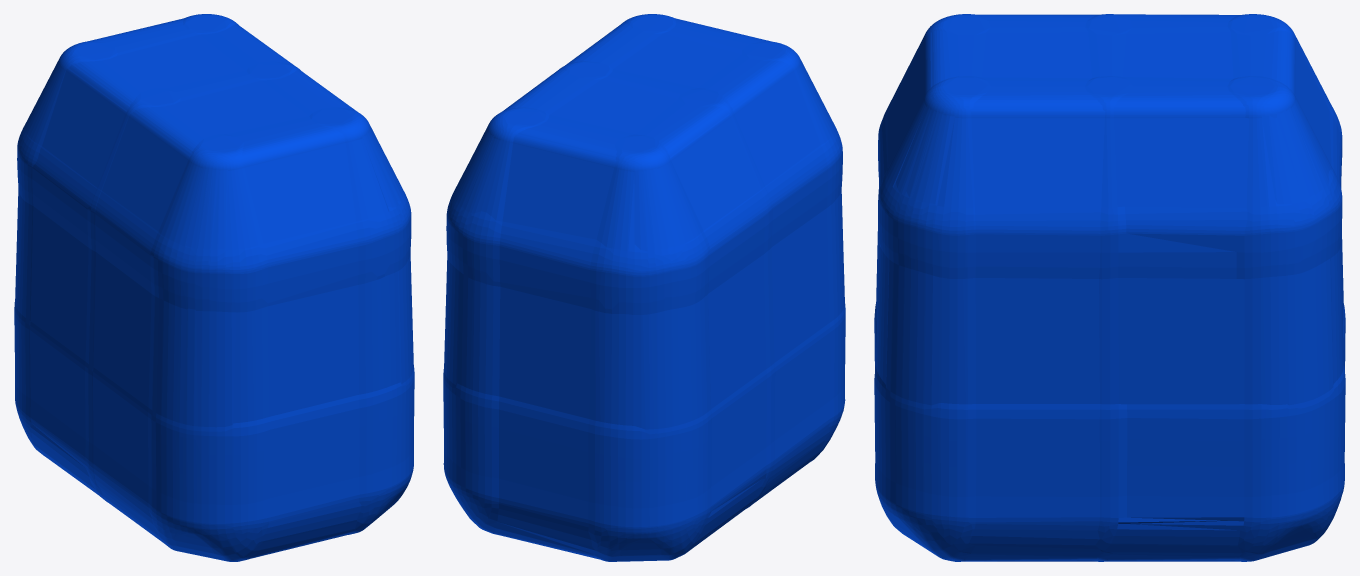
The model's file is water_bottle.fbx.
The picture shows the model from 3 angles, left to right: view 1: azimuth 30°, elevation 25°; view 2: azimuth 150°, elevation 25°; view 3: azimuth 270°, elevation 25°; orthographic projection. The views are drawn at different scales.
Parts seen in each view (by area): view 1: Cube; view 2: Cube; view 3: Cube.
Part boxes in pixels (x1,y1,x2,y2): Cube: [14, 14, 414, 561]; Cube: [443, 14, 845, 561]; Cube: [874, 14, 1345, 561].
Bounding box in the file's own units: 15.76 × 23.89 × 22.49.
